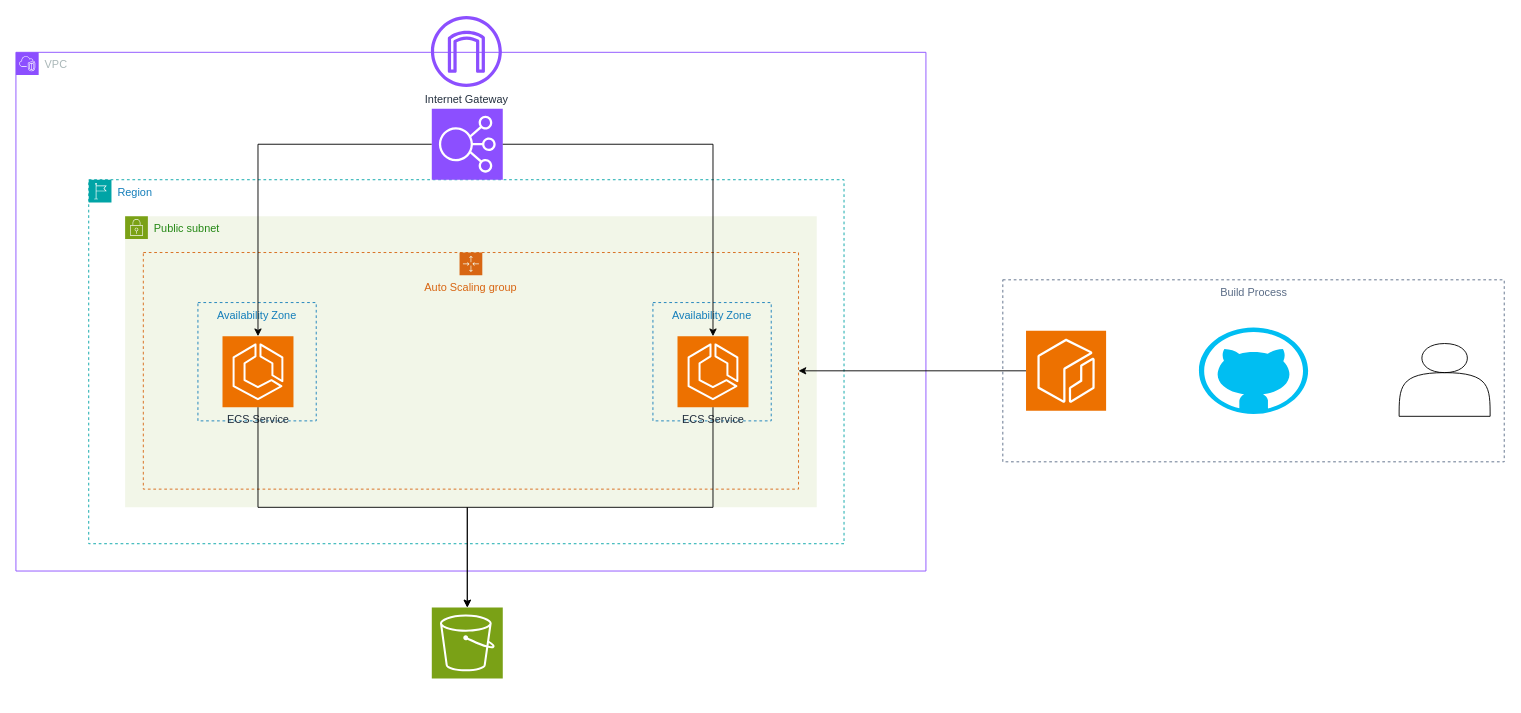
Image size: 1521x713. Some labels were removed from this diagram. Here are the shapes that lost their labels. From the top down, the centre of each, then its label:
the point at 467,144: App Load balancer
the point at 1065,370: ECR
the point at 1253,370: Github Actions
the point at 1444,379: Developers
the point at 467,642: S3 Bucket
